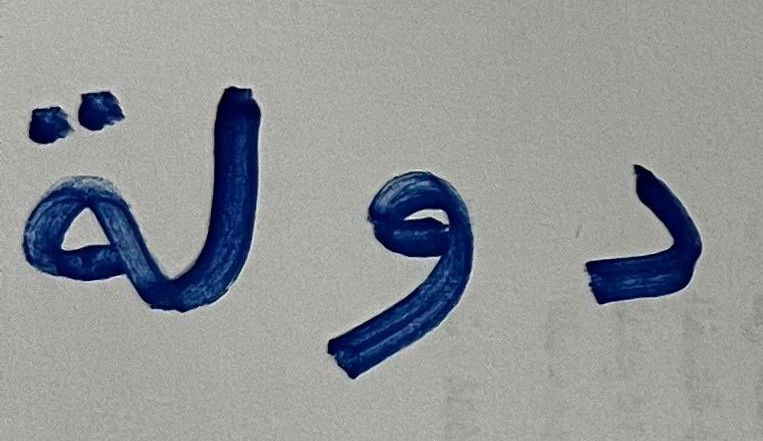dal: (541, 136, 734, 365)
lam: (174, 53, 289, 372)
teh_marbota: (20, 72, 166, 350)
waw: (310, 102, 523, 399)
